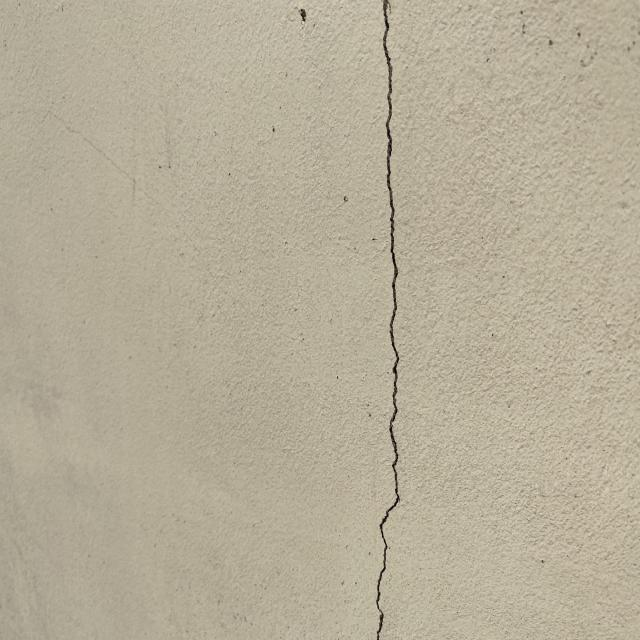SurfaceCrack: (326, 1, 448, 640)
